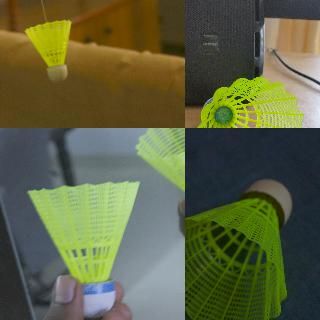shuttlecock: (185, 178, 293, 319), (26, 182, 138, 314), (195, 76, 304, 127), (135, 128, 184, 217), (25, 20, 71, 82)
